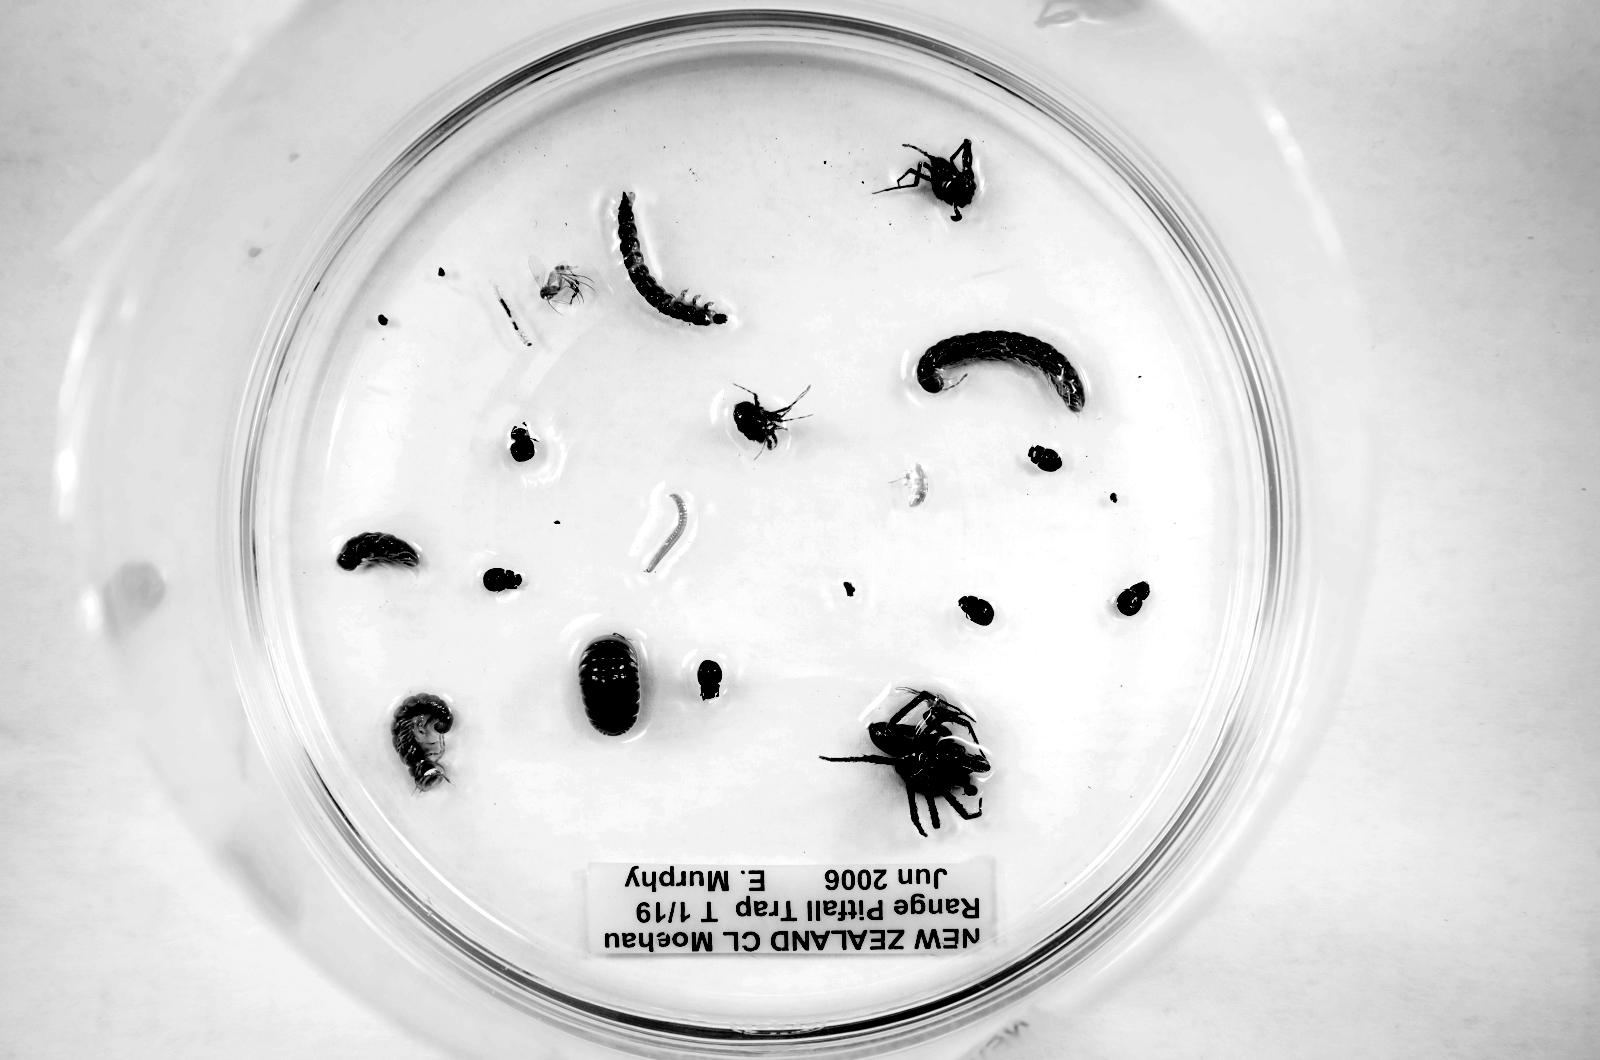araneae: (823, 689, 991, 835), (886, 140, 977, 221)
coleoptera: (1116, 582, 1149, 616), (959, 595, 995, 626), (697, 660, 723, 700), (510, 424, 536, 463), (484, 568, 523, 593), (1028, 445, 1062, 472)
coleoptera_larva: (618, 192, 727, 325)
diplopoda: (916, 330, 1084, 413), (393, 693, 453, 791), (646, 495, 687, 571), (337, 532, 420, 570)
diptera: (539, 265, 591, 305)
isopoda: (578, 634, 641, 736)
opiliones: (733, 389, 798, 451)
